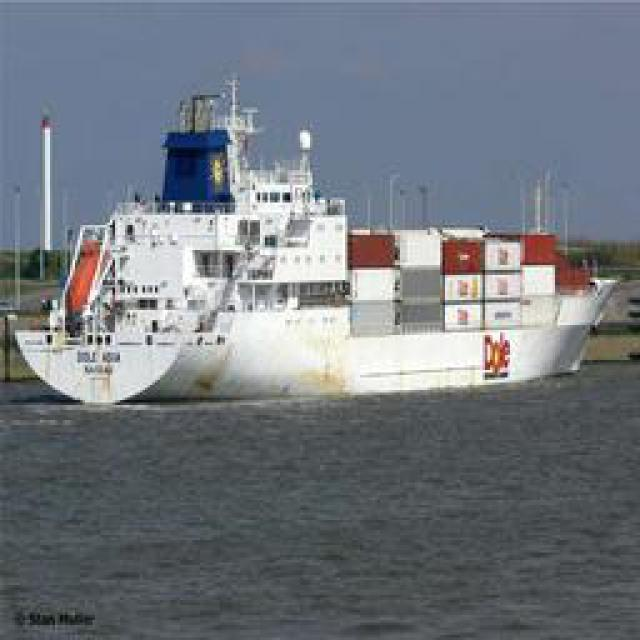Ship: (20, 77, 620, 397)
